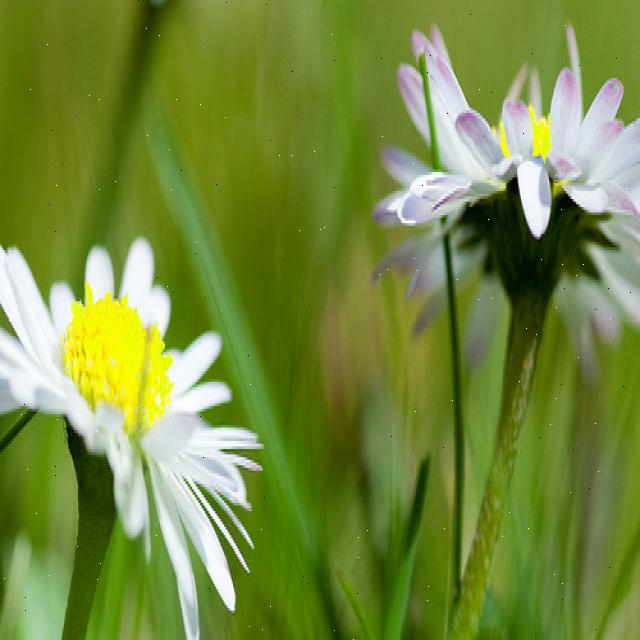Unbloomed: (0, 231, 264, 632)
